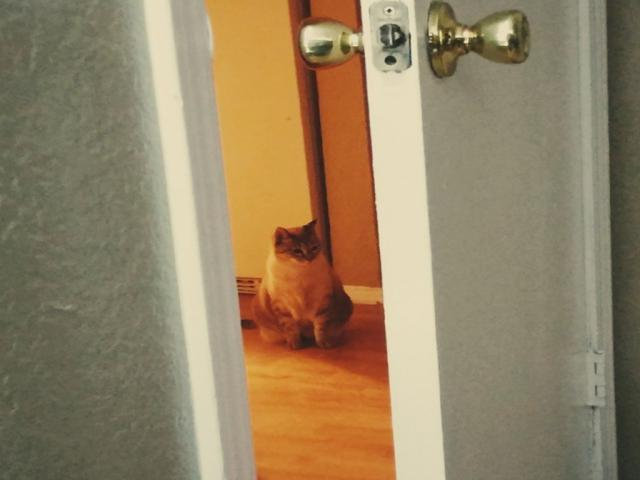Door-handle: (427, 1, 532, 77), (295, 15, 363, 73)
